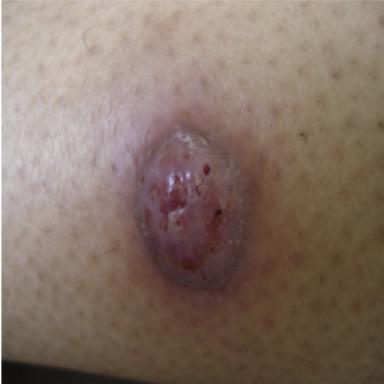Leishmanios: (137, 126, 246, 287)
